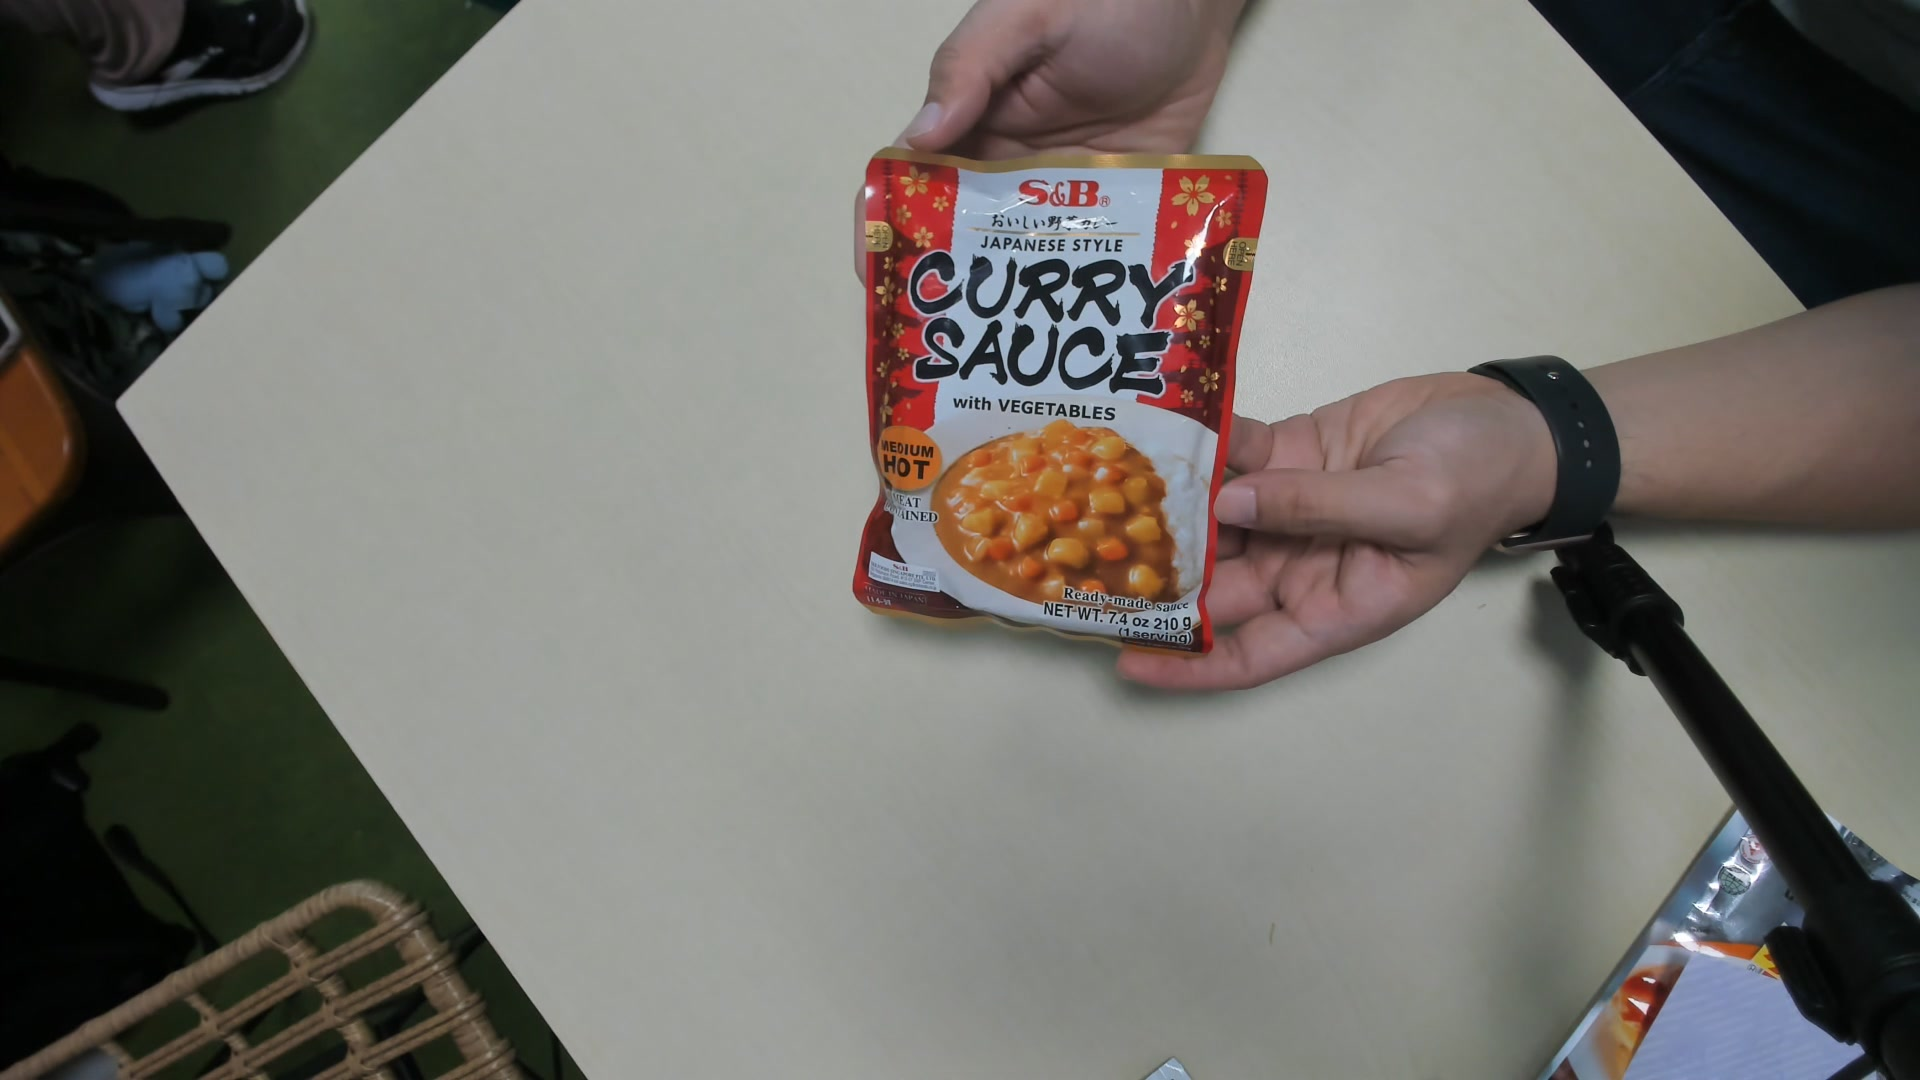CurryPastePowderSauce_200-299g_NonHalal_NonHealthy: (844, 146, 1261, 655)
